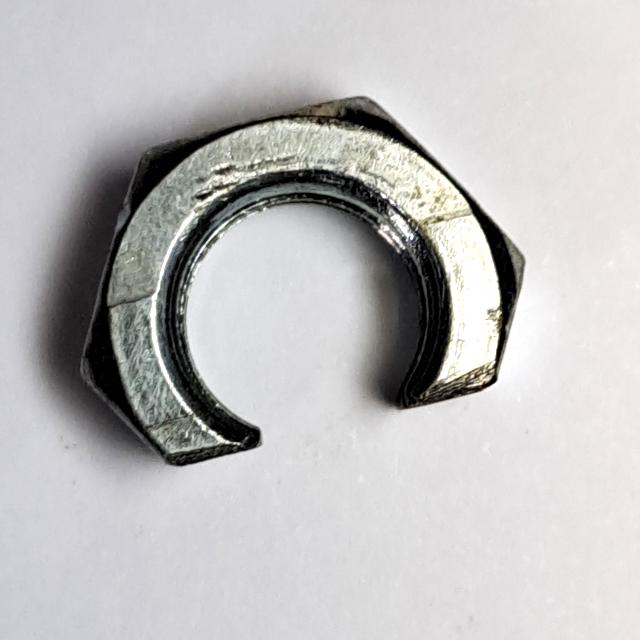Fracture: (62, 79, 539, 481)
